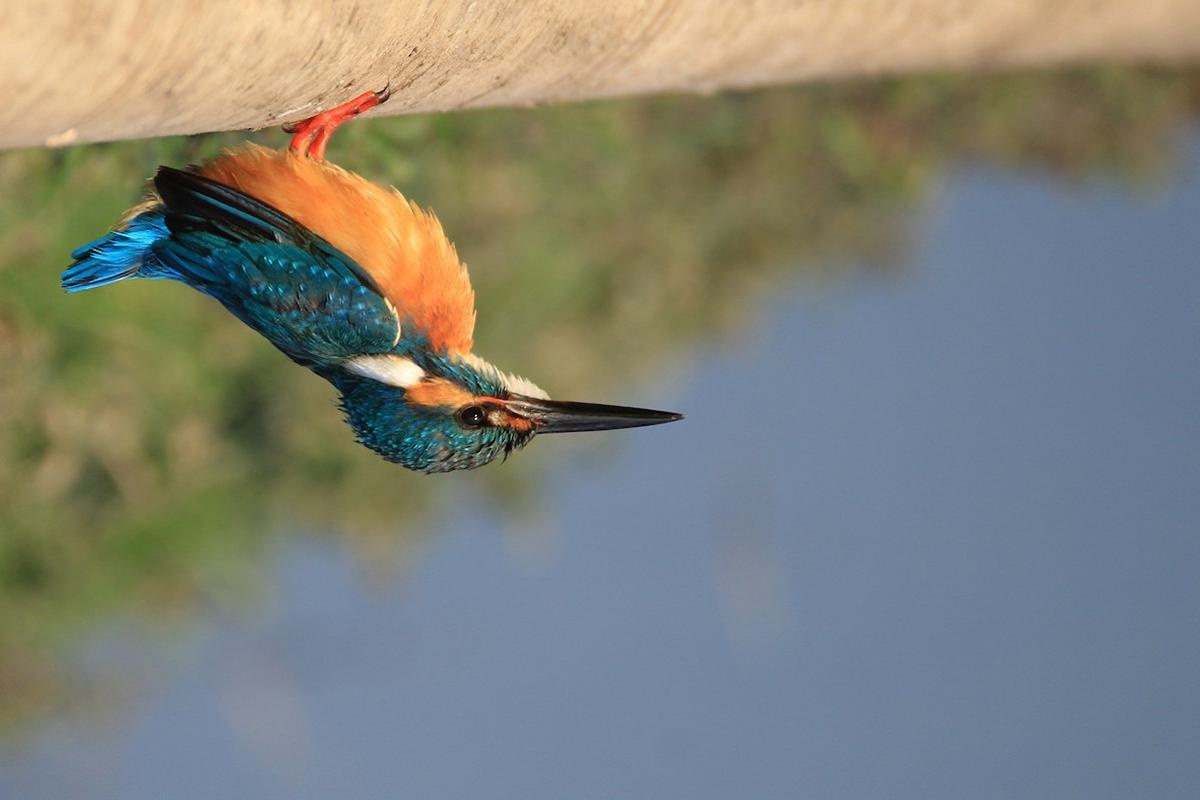kingfisher: (95, 93, 709, 512)
